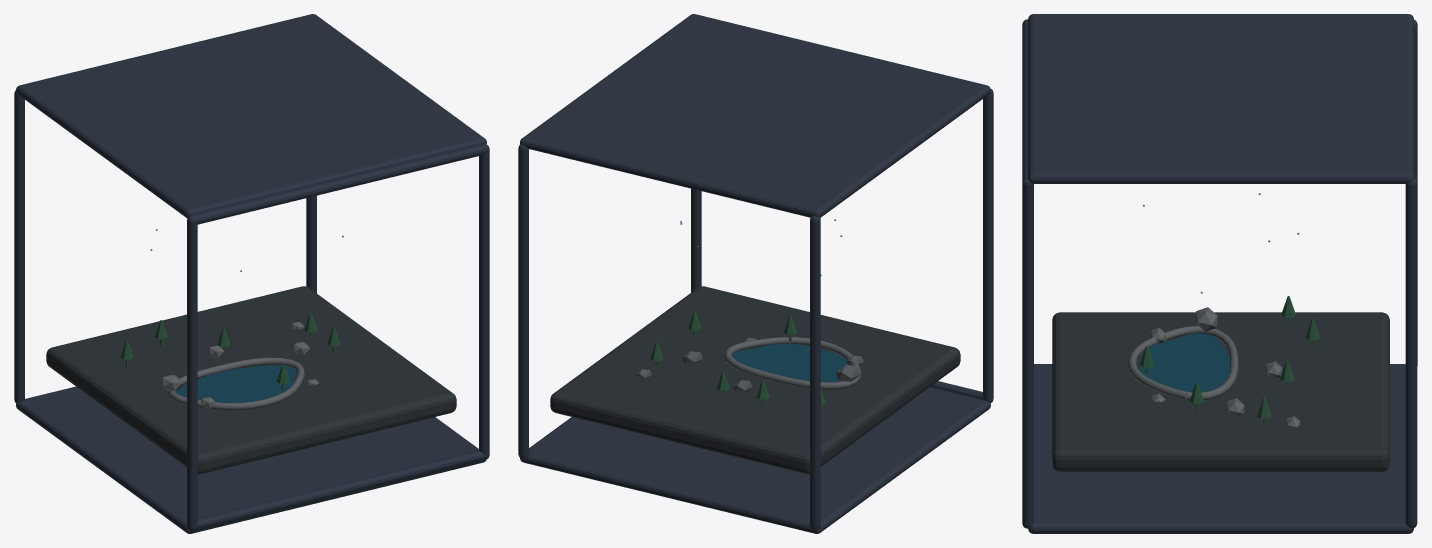
Rendered from pond.glb.
3 views of the same model, side by side, from view 1: azimuth 30°, elevation 25°; view 2: azimuth 150°, elevation 25°; view 3: azimuth 270°, elevation 25° (orthographic). The views are drawn at different scales.
Parts seen in each view (by area): view 1: Addys_Cube_Top, Addys_Cube_Inner_Ground, Addys_Cube_Bottom, Addys_Cube_Front_Left, Addys_Cube_Front_Bottom, Addys_Cube_Front_Left.001, Addys_Cube_Front_Right.001, Addys_Cube_Front_Top, Addys_Pond, Addys_Pond_Shore, Addys_Cube_Front_Right; view 2: Addys_Cube_Top, Addys_Cube_Inner_Ground, Addys_Cube_Bottom, Addys_Cube_Front_Left.001, Addys_Cube_Front_Right, Addys_Cube_Front_Left, Addys_Pond, Addys_Pond_Shore, Addys_Cube_Front_Right.001; view 3: Addys_Cube_Top, Addys_Cube_Inner_Ground, Addys_Cube_Bottom, Addys_Cube_Front_Right, Addys_Cube_Front_Right.001, Addys_Pond, Addys_Pond_Shore, Addys_Cube_Front_Top, Addys_Cube_Front_Left.001.
Boxes of the visible parts, x1,y1,x2,y2 form: Addys_Cube_Top: (16,14,486,218); Addys_Cube_Inner_Ground: (46,286,456,474); Addys_Cube_Bottom: (16,386,486,533); Addys_Cube_Front_Left: (187,215,197,530); Addys_Cube_Front_Bottom: (188,450,489,530); Addys_Cube_Front_Left.001: (14,90,24,403); Addys_Cube_Front_Right.001: (479,144,489,459); Addys_Cube_Front_Top: (187,144,489,224); Addys_Pond: (175,364,296,402); Addys_Pond_Shore: (167,357,304,410); Addys_Cube_Front_Right: (306,195,316,293); Addys_Cube_Top: (520,14,990,217); Addys_Cube_Inner_Ground: (550,286,960,474); Addys_Cube_Bottom: (520,387,990,533); Addys_Cube_Front_Left.001: (810,216,820,530); Addys_Cube_Front_Right: (518,144,528,458); Addys_Cube_Front_Left: (983,89,993,402); Addys_Pond: (732,343,847,382); Addys_Pond_Shore: (724,337,861,389); Addys_Cube_Front_Right.001: (691,188,701,292); Addys_Cube_Top: (1028,14,1413,183); Addys_Cube_Inner_Ground: (1052,312,1389,471); Addys_Cube_Bottom: (1028,364,1413,533); Addys_Cube_Front_Right: (1405,178,1417,528); Addys_Cube_Front_Right.001: (1022,178,1033,525); Addys_Pond: (1139,333,1229,392); Addys_Pond_Shore: (1127,326,1238,400); Addys_Cube_Front_Top: (1022,19,1033,186); Addys_Cube_Front_Left.001: (1414,19,1417,365).
Size of the model in its own units: 4 by 4.12 by 4.1.
